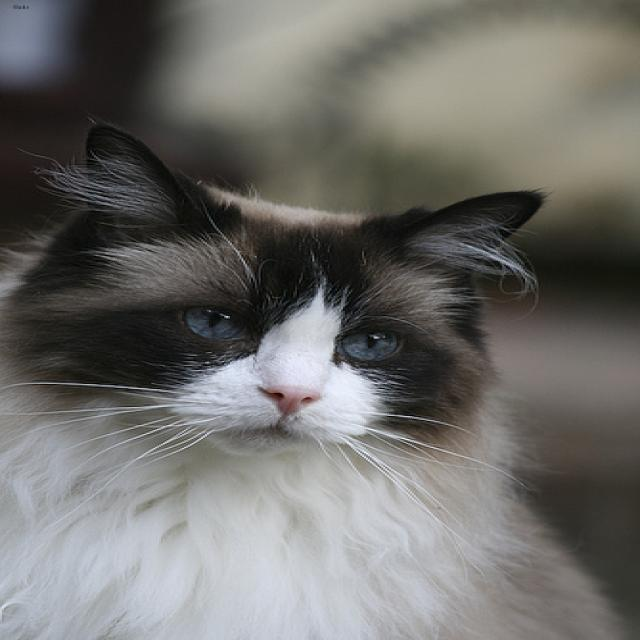Ragdoll: (81, 122, 541, 456)
